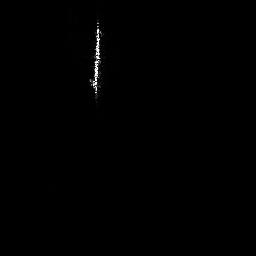ship: (88, 19, 104, 103)
